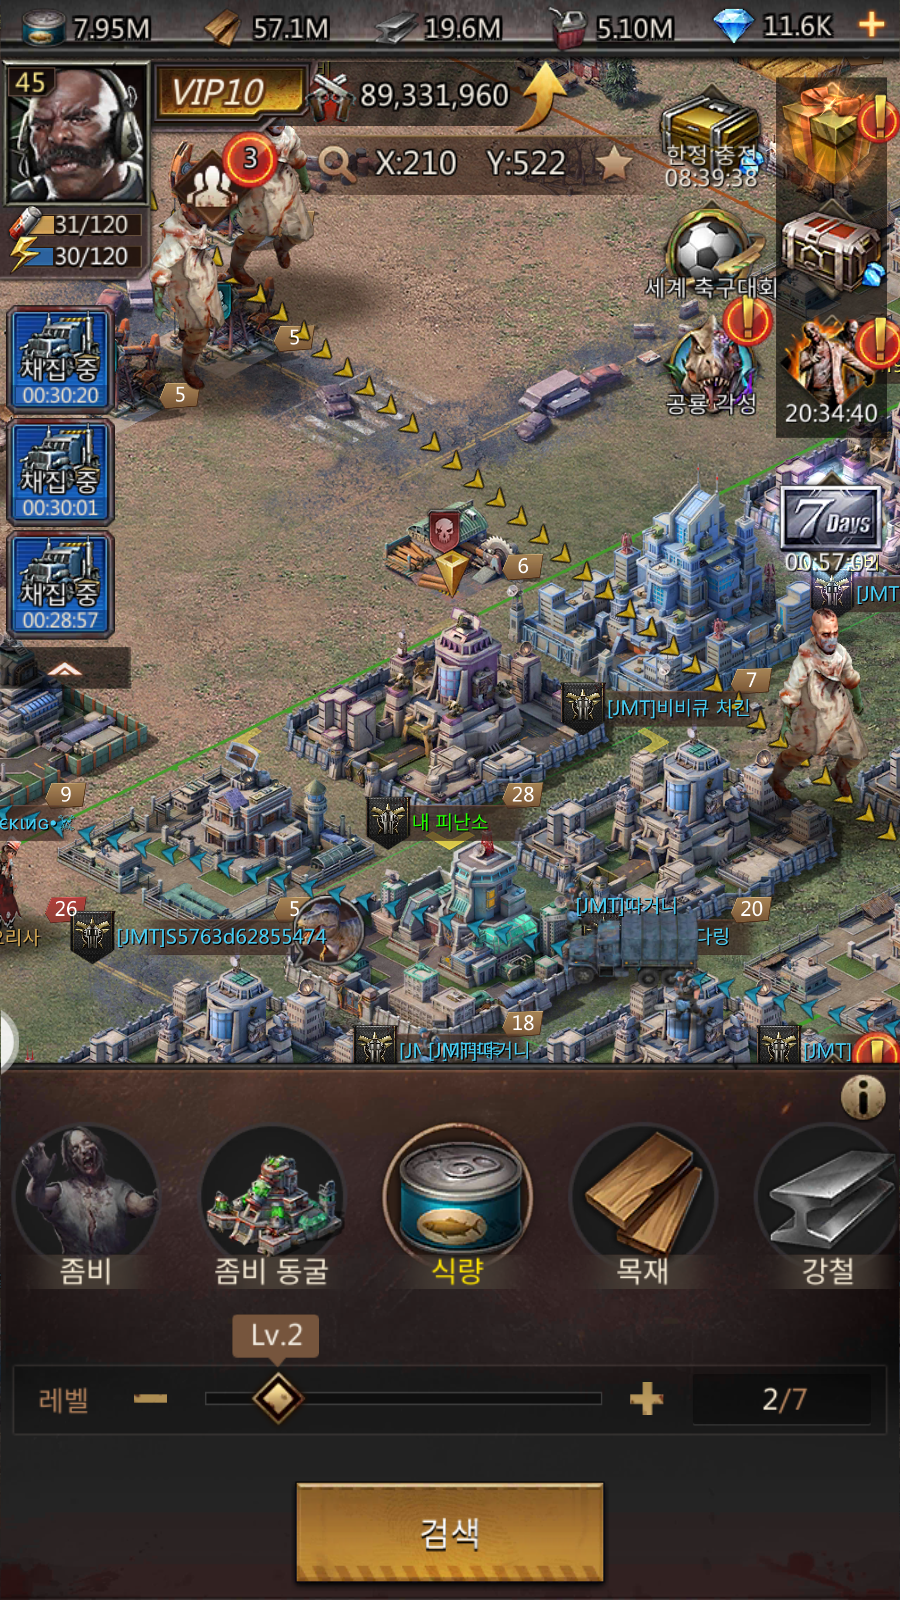rss_food_in_panel: (380, 1122, 540, 1289)
rss_lv2: (235, 1313, 324, 1358)
rss_minus_in_panel: (120, 1375, 178, 1422)
rss_plus_in_panel: (616, 1373, 673, 1425)
rss_search_in_panel: (293, 1482, 604, 1580)
rss_steel_in_panel: (747, 1120, 900, 1296)
rss_wood_in_panel: (571, 1120, 715, 1296)
troops_cnt_3: (165, 127, 280, 240)
